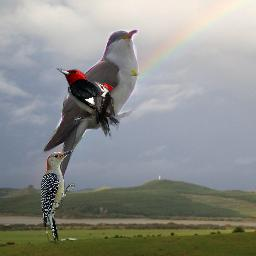Cuckoo: (42, 29, 139, 215)
Woodpecker: (55, 68, 121, 140), (41, 148, 76, 247), (89, 81, 115, 124)
